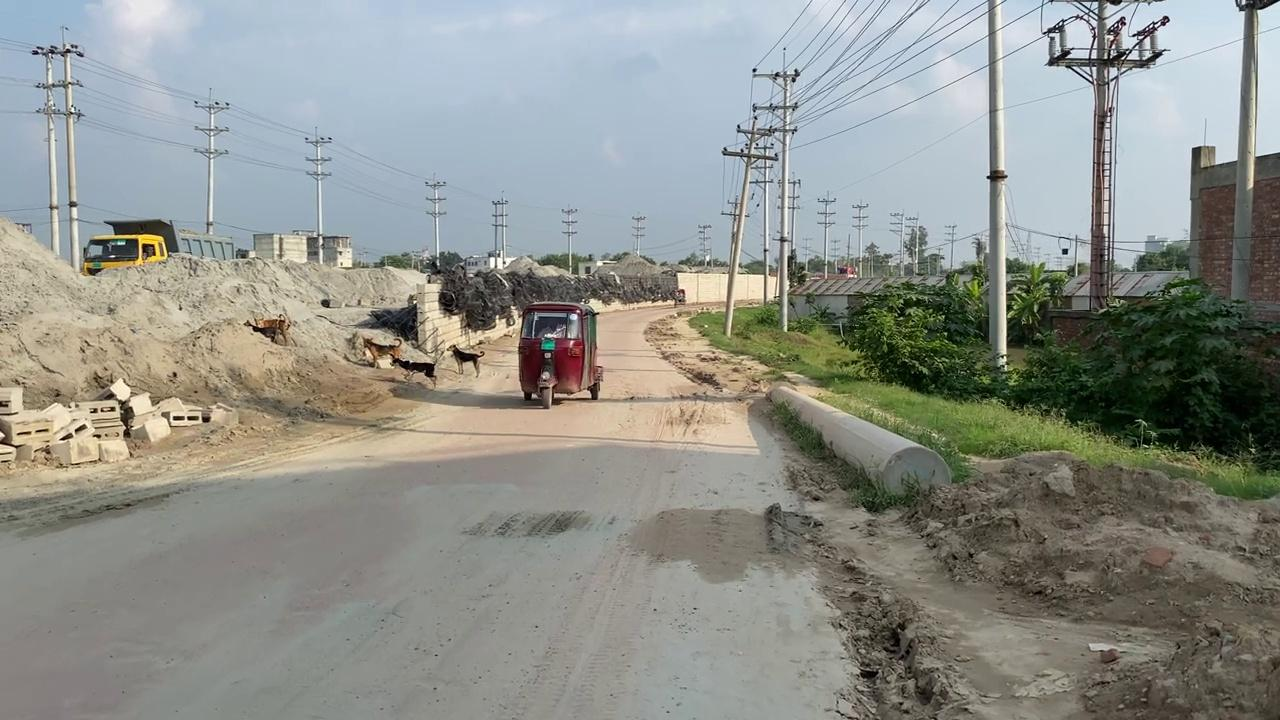Animal: (389, 355, 436, 388), (243, 313, 291, 345), (360, 335, 402, 367), (446, 343, 484, 376)
Car: (517, 301, 603, 408)
Curb: (765, 381, 952, 499)
Garbage: (0, 376, 238, 466), (430, 255, 679, 330)
Pole: (985, 0, 1008, 376), (1230, 3, 1258, 309), (1088, 1, 1109, 310), (30, 45, 60, 256)
Sidewalk: (1, 407, 873, 718)
Tree: (80, 218, 236, 276), (80, 232, 168, 276)
